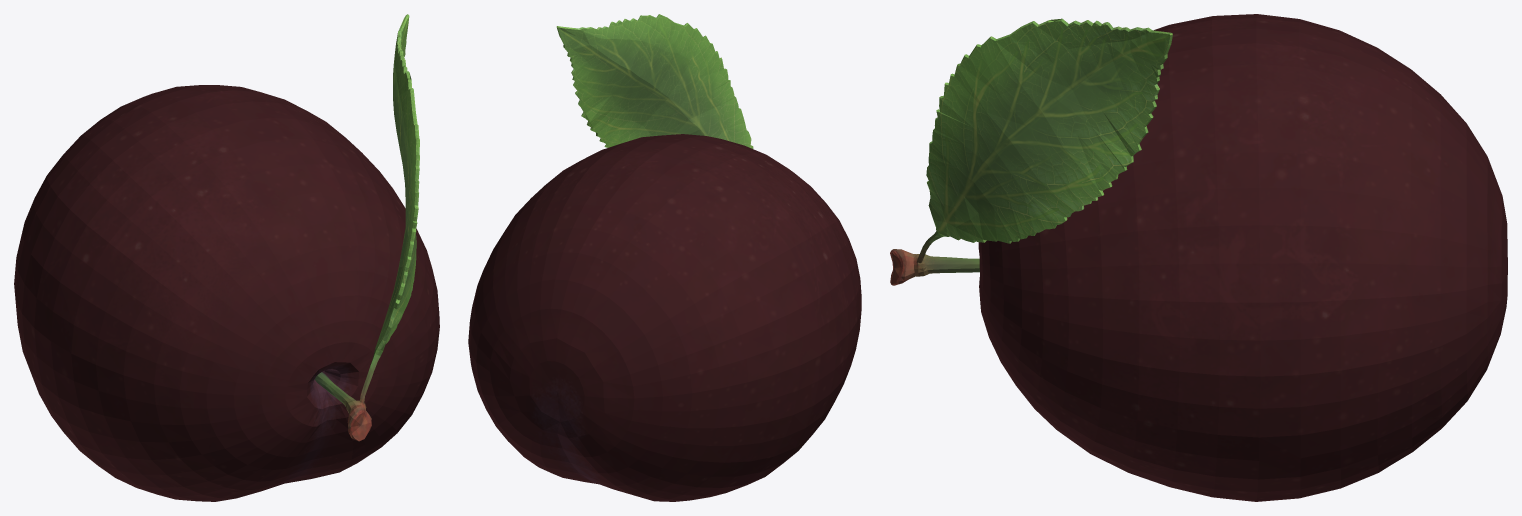
File: Ciruela.obj
3 renders of one model, left to right at view 1: azimuth 30°, elevation 25°; view 2: azimuth 150°, elevation 25°; view 3: azimuth 270°, elevation 25°, orthographic. The views are drawn at different scales.
Visible parts, largest first — view 1: Object.1; view 2: Object.1; view 3: Object.1.
Part boxes in pixels (<box>): Object.1: <box>14,14,439,501</box>; Object.1: <box>468,14,861,501</box>; Object.1: <box>890,14,1507,501</box>.
Bounding box in the file's own units: 146 × 170 × 185.
1 material, 1 textured.
